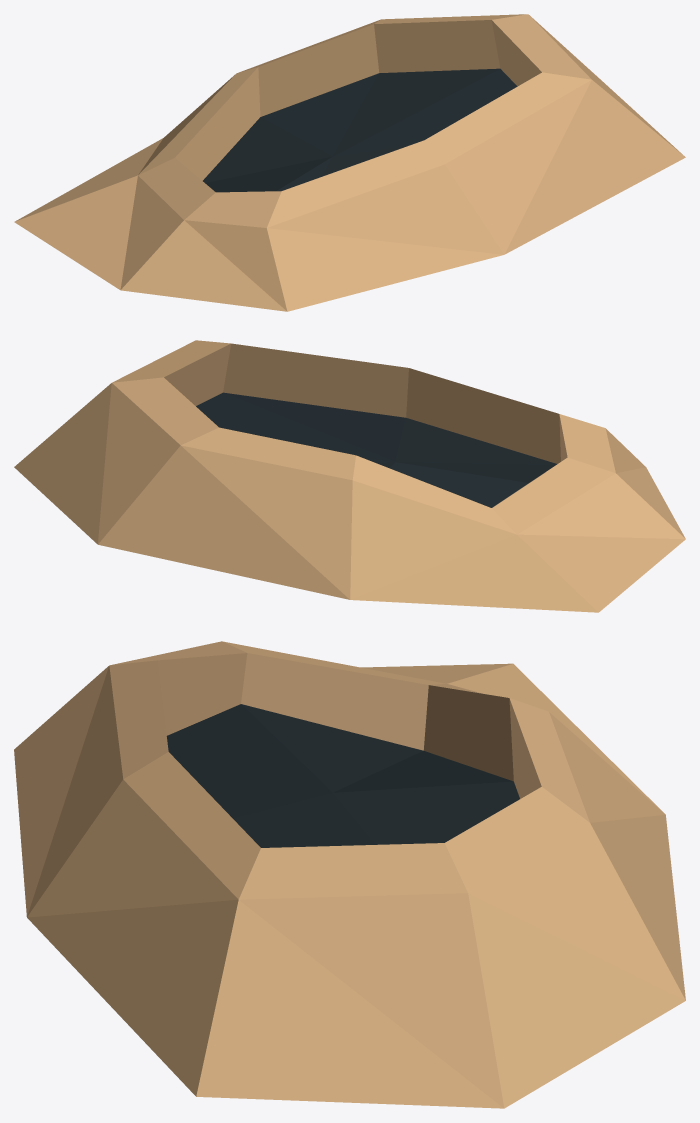
File: Pit.fbx
3 renders of one model, top to bottom at view 1: azimuth 30°, elevation 25°; view 2: azimuth 150°, elevation 25°; view 3: azimuth 270°, elevation 25°, orthographic. The views are drawn at different scales.
Parts seen in each view (by area): view 1: Pit; view 2: Pit; view 3: Pit.
Boxes of the visible parts, x1=… form: Pit: x1=14, y1=14, x2=685, y2=311; Pit: x1=14, y1=340, x2=685, y2=612; Pit: x1=14, y1=641, x2=685, y2=1108.
Bounding box in the file's own units: 619 × 395 × 108.
